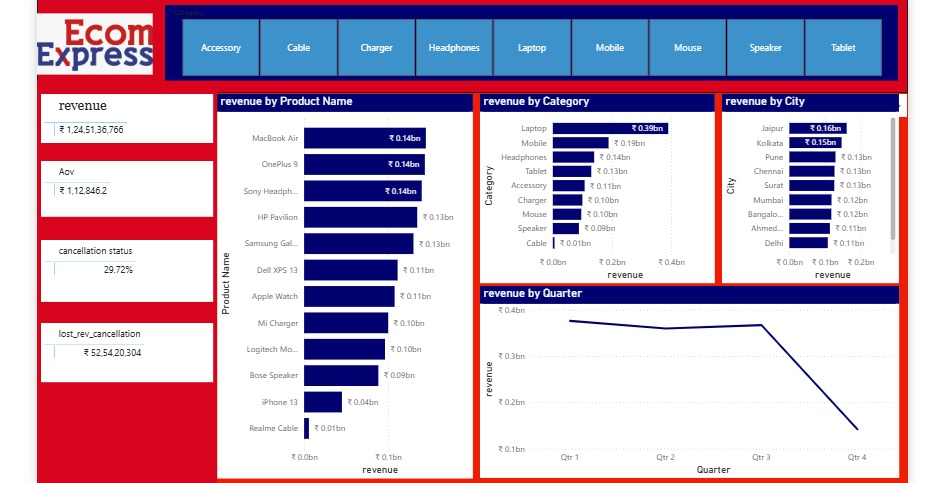

The dashboard page shown, as its layout file describes it:
{"tool":"powerbi","page":{"name":"Revenue Insights","canvas":[1280,720],"ordinal":0},"visuals":[{"type":"shape","box":[0,0,1280,144],"z":0},{"type":"image","box":[0,0,170.2,144],"z":1000},{"type":"barChart","fields":{"Y":["Table.revenue"],"Category":["Product.Product Name"]},"box":[264.4,144.9,376.4,564.6],"z":2000},{"type":"barChart","fields":{"Y":["Table.revenue"],"Category":["Product.Category"]},"box":[650.9,145.5,345.3,277.7],"z":3000},{"type":"lineChart","fields":{"Y":["Table.revenue"],"Category":["Orders.Date and time of purchase.Variation.Date Hierarchy.Year","Orders.Date and time of purchase.Variation.Date Hierarchy.Quarter","Orders.Date and time of purchase.Variation.Date Hierarchy.Month","Orders.Date and time of purchase.Variation.Date Hierarchy.Day"]},"box":[650.9,427.6,615.7,282.1],"z":4000},{"type":"barChart","fields":{"Y":["Table.revenue"],"Category":["customers.City"]},"box":[1006.5,145.5,260.1,277.7],"z":5000},{"type":"slicer","fields":{"Values":["Product.Category"]},"box":[188.2,14.7,1077,111.3],"z":6000},{"type":"shape","box":[0,125.9,264.8,594.4],"z":7000},{"type":"pivotTable","fields":{"Values":["Table.revenue"]},"box":[5.9,145.5,252.7,72],"z":8000},{"type":"pivotTable","fields":{"Values":["Table.Aov"]},"box":[5.9,243.9,252.7,82.3],"z":9000},{"type":"pivotTable","fields":{"Values":["Table.cancellation status"]},"box":[5.9,360,252.7,91.1],"z":10000},{"type":"pivotTable","fields":{"Values":["Table.lost_rev_cancellation"]},"box":[5.9,482,252.7,86.7],"z":11000}]}

Visuals, with their boxes in screenshot pixels (x1, y1, x2, y2):
shape: (34, 0, 912, 89)
image: (34, 0, 151, 89)
barChart - Table.revenue x Product.Product Name: (216, 90, 474, 477)
barChart - Table.revenue x Product.Category: (481, 90, 718, 281)
lineChart - Table.revenue x Orders.Date and time of purchase.Variation.Date Hierarchy.Year: (481, 284, 903, 477)
barChart - Table.revenue x customers.City: (725, 90, 903, 281)
slicer - Product.Category: (163, 0, 902, 77)
shape: (34, 77, 216, 482)
pivotTable - Table.revenue: (38, 90, 212, 139)
pivotTable - Table.Aov: (38, 158, 212, 214)
pivotTable - Table.cancellation status: (38, 237, 212, 300)
pivotTable - Table.lost_rev_cancellation: (38, 321, 212, 380)
